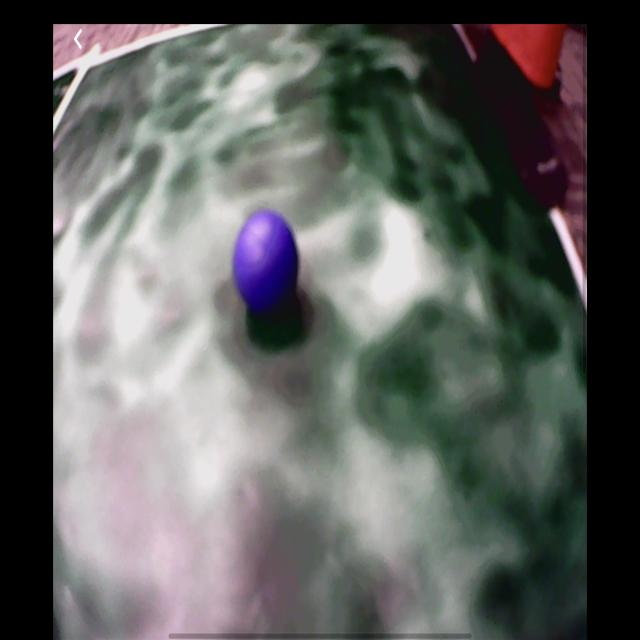ball: (235, 210, 299, 313)
